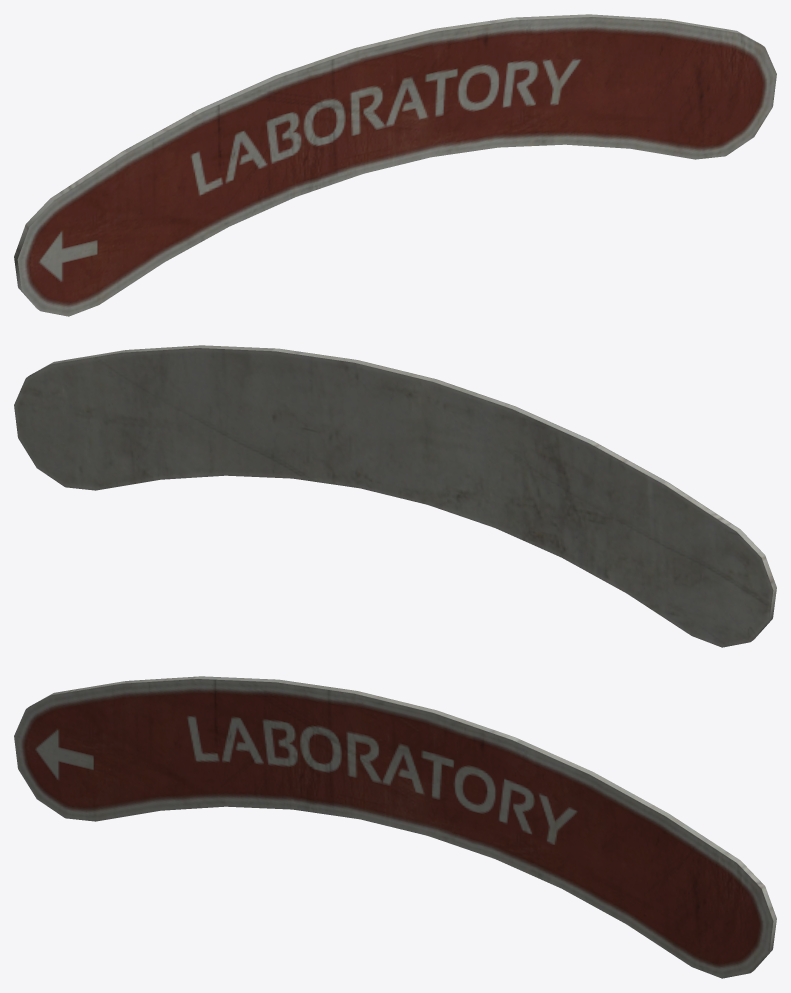
The model's file is tau_inside_biochem_lab_left.dae.
The picture shows the model from 3 angles, top to bottom: view 1: azimuth 30°, elevation 25°; view 2: azimuth 150°, elevation 25°; view 3: azimuth 330°, elevation 25°; orthographic projection.
Visible parts, largest first — view 1: Geometry_mesh026Node11; view 2: Geometry_mesh026Node11; view 3: Geometry_mesh026Node11.
Part boxes in pixels (x1,y1,x2,y2): Geometry_mesh026Node11: (14,14,776,316); Geometry_mesh026Node11: (14,345,776,647); Geometry_mesh026Node11: (14,676,776,978).
Size of the model in its own units: 1.17 by 0.2881 by 0.00977.
